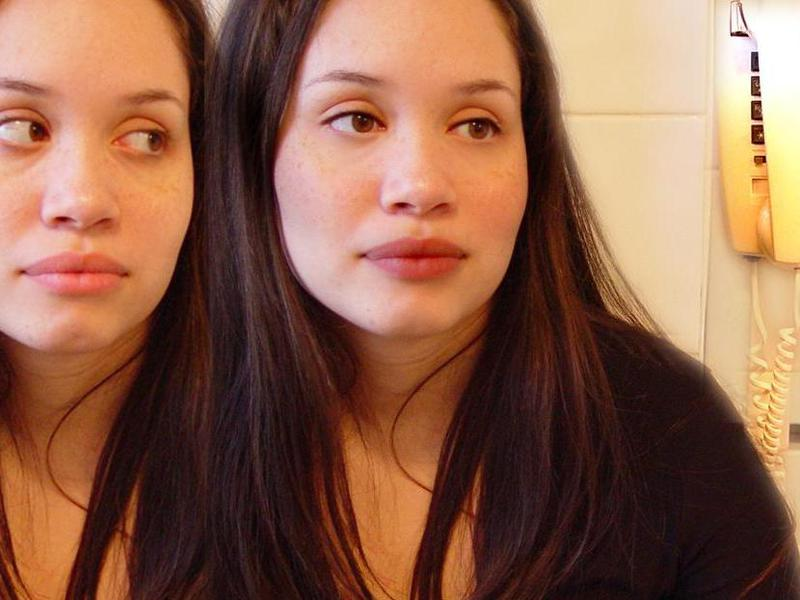person: (254, 1, 795, 596), (1, 1, 278, 598)
